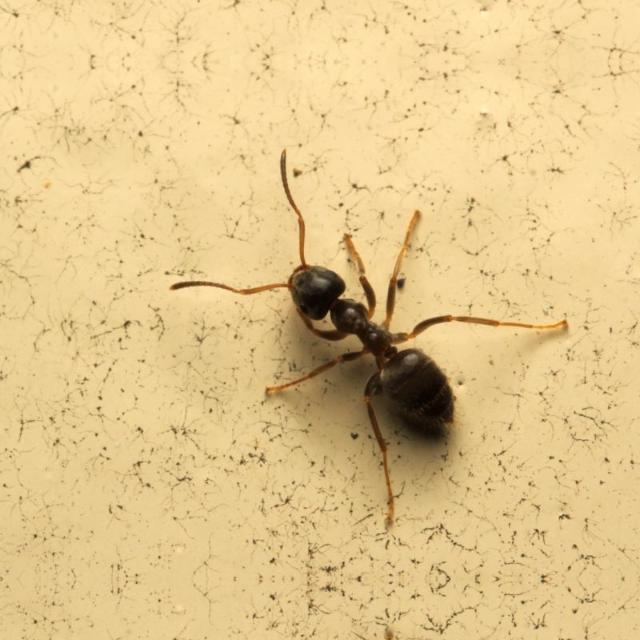Lasius: (226, 198, 507, 458)
